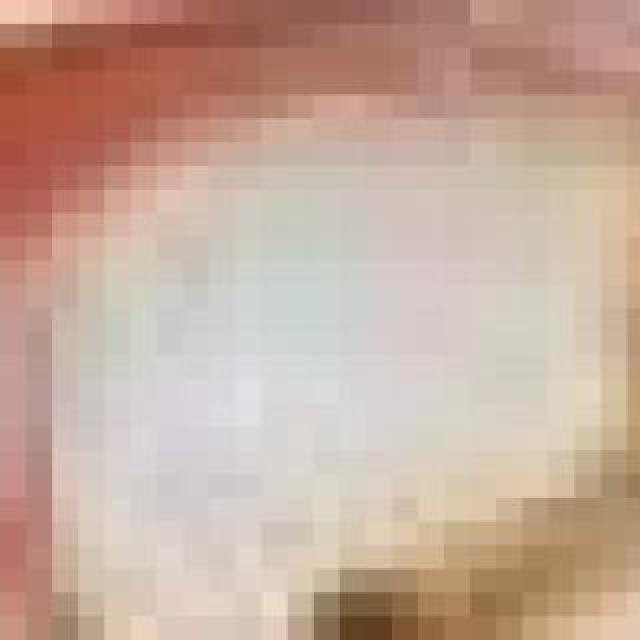cavities: (26, 94, 640, 640)
